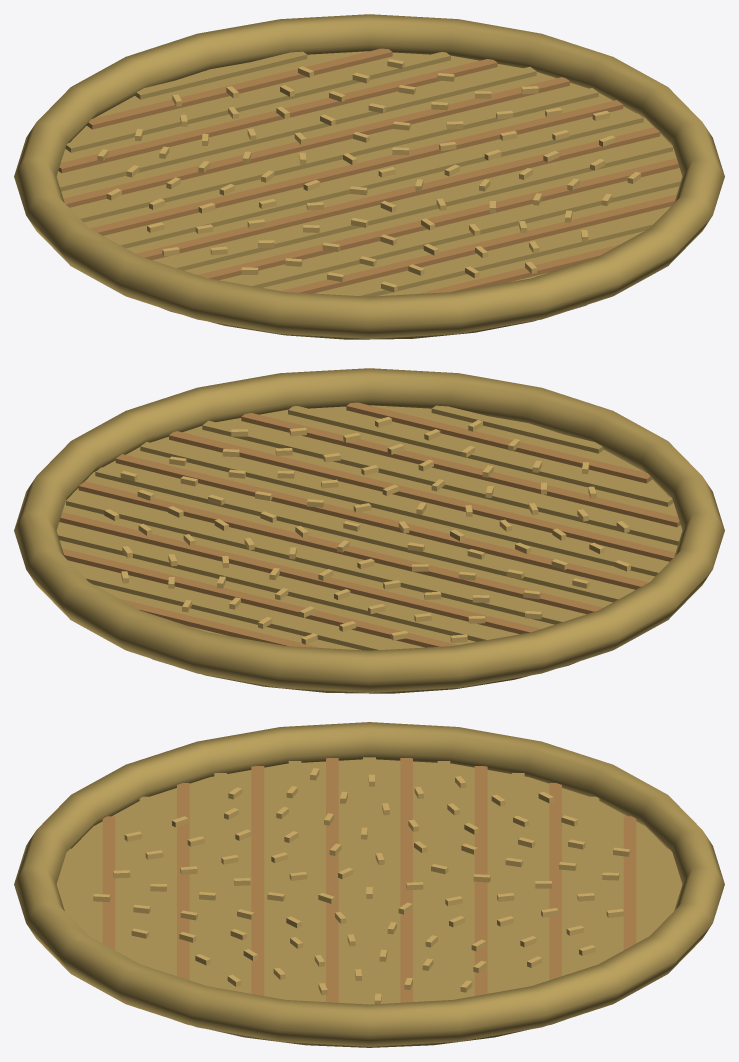
Rendered from LV_NIA_TRE_01.glb.
The picture shows the model from 3 angles, top to bottom: view 1: azimuth 30°, elevation 25°; view 2: azimuth 150°, elevation 25°; view 3: azimuth 270°, elevation 25°; orthographic projection.
Visible parts, largest first — view 1: LV_NIA_TRE_01-surface-b59b56, LV_NIA_TRE_01-surface-b68850, LV_NIA_TRE_01-surface-d8b568; view 2: LV_NIA_TRE_01-surface-b59b56, LV_NIA_TRE_01-surface-b68850, LV_NIA_TRE_01-surface-d8b568; view 3: LV_NIA_TRE_01-surface-b59b56, LV_NIA_TRE_01-surface-b68850, LV_NIA_TRE_01-surface-d8b568.
Boxes of the visible parts, bbox=[...] form: LV_NIA_TRE_01-surface-b59b56: bbox=[14, 14, 724, 339]; LV_NIA_TRE_01-surface-b68850: bbox=[58, 48, 679, 293]; LV_NIA_TRE_01-surface-d8b568: bbox=[97, 59, 640, 292]; LV_NIA_TRE_01-surface-b59b56: bbox=[14, 368, 724, 693]; LV_NIA_TRE_01-surface-b68850: bbox=[59, 402, 680, 647]; LV_NIA_TRE_01-surface-d8b568: bbox=[104, 417, 630, 644]; LV_NIA_TRE_01-surface-b59b56: bbox=[14, 722, 724, 1047]; LV_NIA_TRE_01-surface-b68850: bbox=[102, 758, 636, 1002]; LV_NIA_TRE_01-surface-d8b568: bbox=[93, 768, 630, 1004].
Bounding box in the file's own units: 1.17 × 0.0753 × 1.17.
